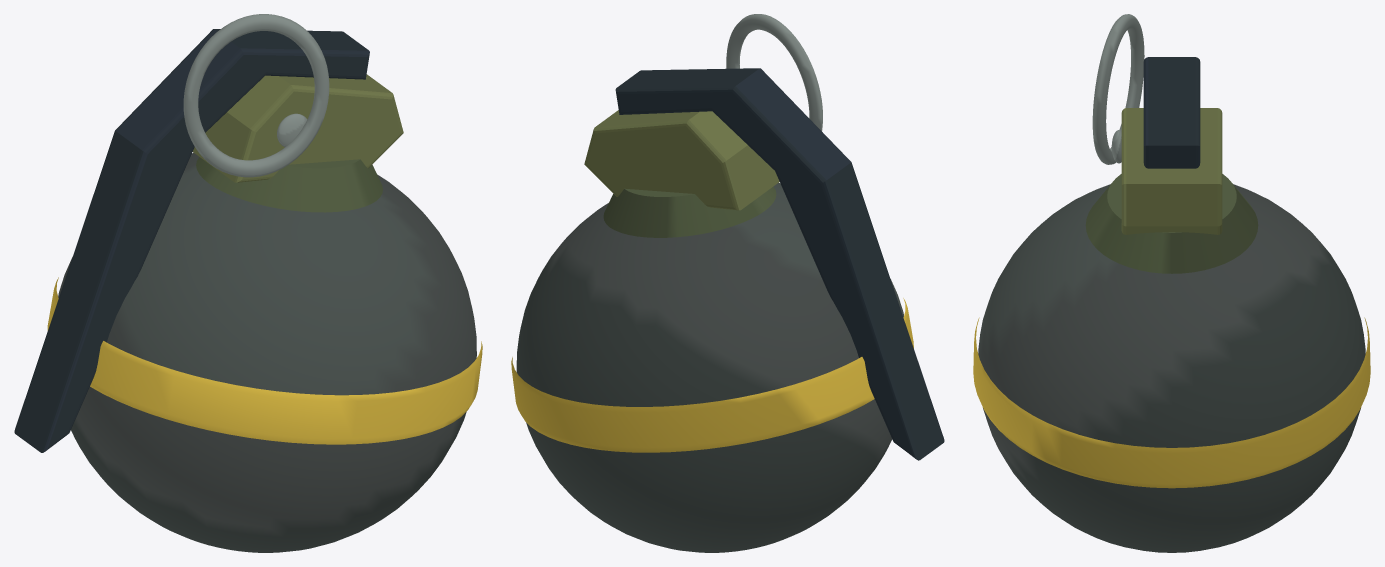
The picture shows the model from 3 angles, left to right: view 1: azimuth 30°, elevation 25°; view 2: azimuth 150°, elevation 25°; view 3: azimuth 270°, elevation 25°; orthographic projection. The views are drawn at different scales.
Bounding box in the file's own units: 1.18 × 1.45 × 1.04.
